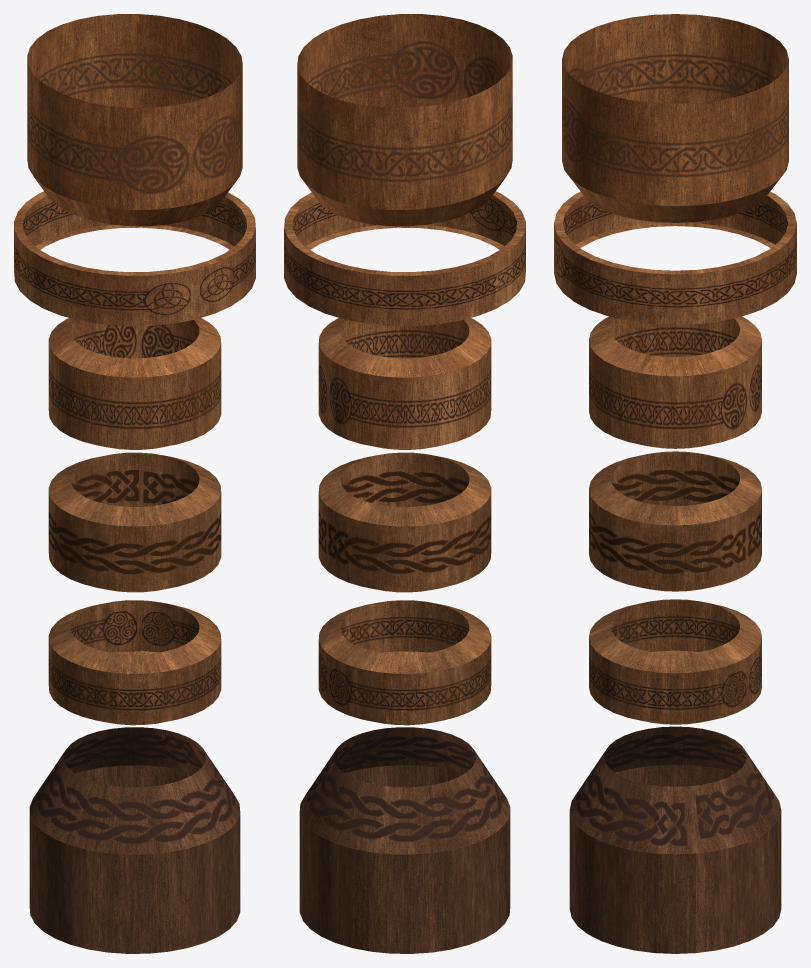
The model's file is SM_AnillasPilares.fbx.
3 renders of one model, left to right at view 1: azimuth 30°, elevation 25°; view 2: azimuth 150°, elevation 25°; view 3: azimuth 270°, elevation 25°, orthographic.
Visible parts, largest first — view 1: SM_Pilares_Deco_Base.001, SM_Pilares_Deco_Superior.001, SM_Pilares_Deco_Anell_02.001, SM_Pilares_Deco_Anell_03.001, SM_Pilares_Deco_DiscSuperior.001, SM_Pilares_Deco_Anell_01.001; view 2: SM_Pilares_Deco_Base.001, SM_Pilares_Deco_Superior.001, SM_Pilares_Deco_Anell_02.001, SM_Pilares_Deco_Anell_03.001, SM_Pilares_Deco_DiscSuperior.001, SM_Pilares_Deco_Anell_01.001; view 3: SM_Pilares_Deco_Superior.001, SM_Pilares_Deco_Base.001, SM_Pilares_Deco_Anell_02.001, SM_Pilares_Deco_Anell_03.001, SM_Pilares_Deco_DiscSuperior.001, SM_Pilares_Deco_Anell_01.001.
Part boxes in pixels (x1=…): SM_Pilares_Deco_Base.001: x1=29, y1=727, x2=240, y2=953; SM_Pilares_Deco_Superior.001: x1=27, y1=14, x2=242, y2=226; SM_Pilares_Deco_Anell_02.001: x1=48, y1=452, x2=221, y2=592; SM_Pilares_Deco_Anell_03.001: x1=48, y1=318, x2=221, y2=449; SM_Pilares_Deco_DiscSuperior.001: x1=14, y1=191, x2=255, y2=326; SM_Pilares_Deco_Anell_01.001: x1=48, y1=600, x2=221, y2=725; SM_Pilares_Deco_Base.001: x1=299, y1=727, x2=510, y2=953; SM_Pilares_Deco_Superior.001: x1=297, y1=14, x2=512, y2=226; SM_Pilares_Deco_Anell_02.001: x1=318, y1=452, x2=491, y2=592; SM_Pilares_Deco_Anell_03.001: x1=318, y1=318, x2=491, y2=449; SM_Pilares_Deco_DiscSuperior.001: x1=284, y1=191, x2=525, y2=326; SM_Pilares_Deco_Anell_01.001: x1=318, y1=600, x2=491, y2=725; SM_Pilares_Deco_Superior.001: x1=562, y1=14, x2=788, y2=222; SM_Pilares_Deco_Base.001: x1=569, y1=726, x2=781, y2=953; SM_Pilares_Deco_Anell_02.001: x1=589, y1=451, x2=761, y2=591; SM_Pilares_Deco_Anell_03.001: x1=589, y1=316, x2=761, y2=448; SM_Pilares_Deco_DiscSuperior.001: x1=554, y1=191, x2=796, y2=324; SM_Pilares_Deco_Anell_01.001: x1=589, y1=599, x2=761, y2=724.
Size of the model in its own units: 171 by 662 by 171.
